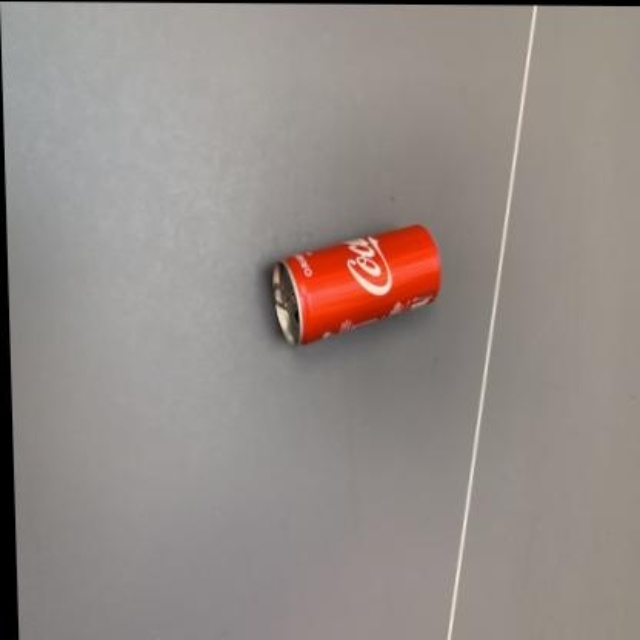trash: (272, 225, 440, 343)
